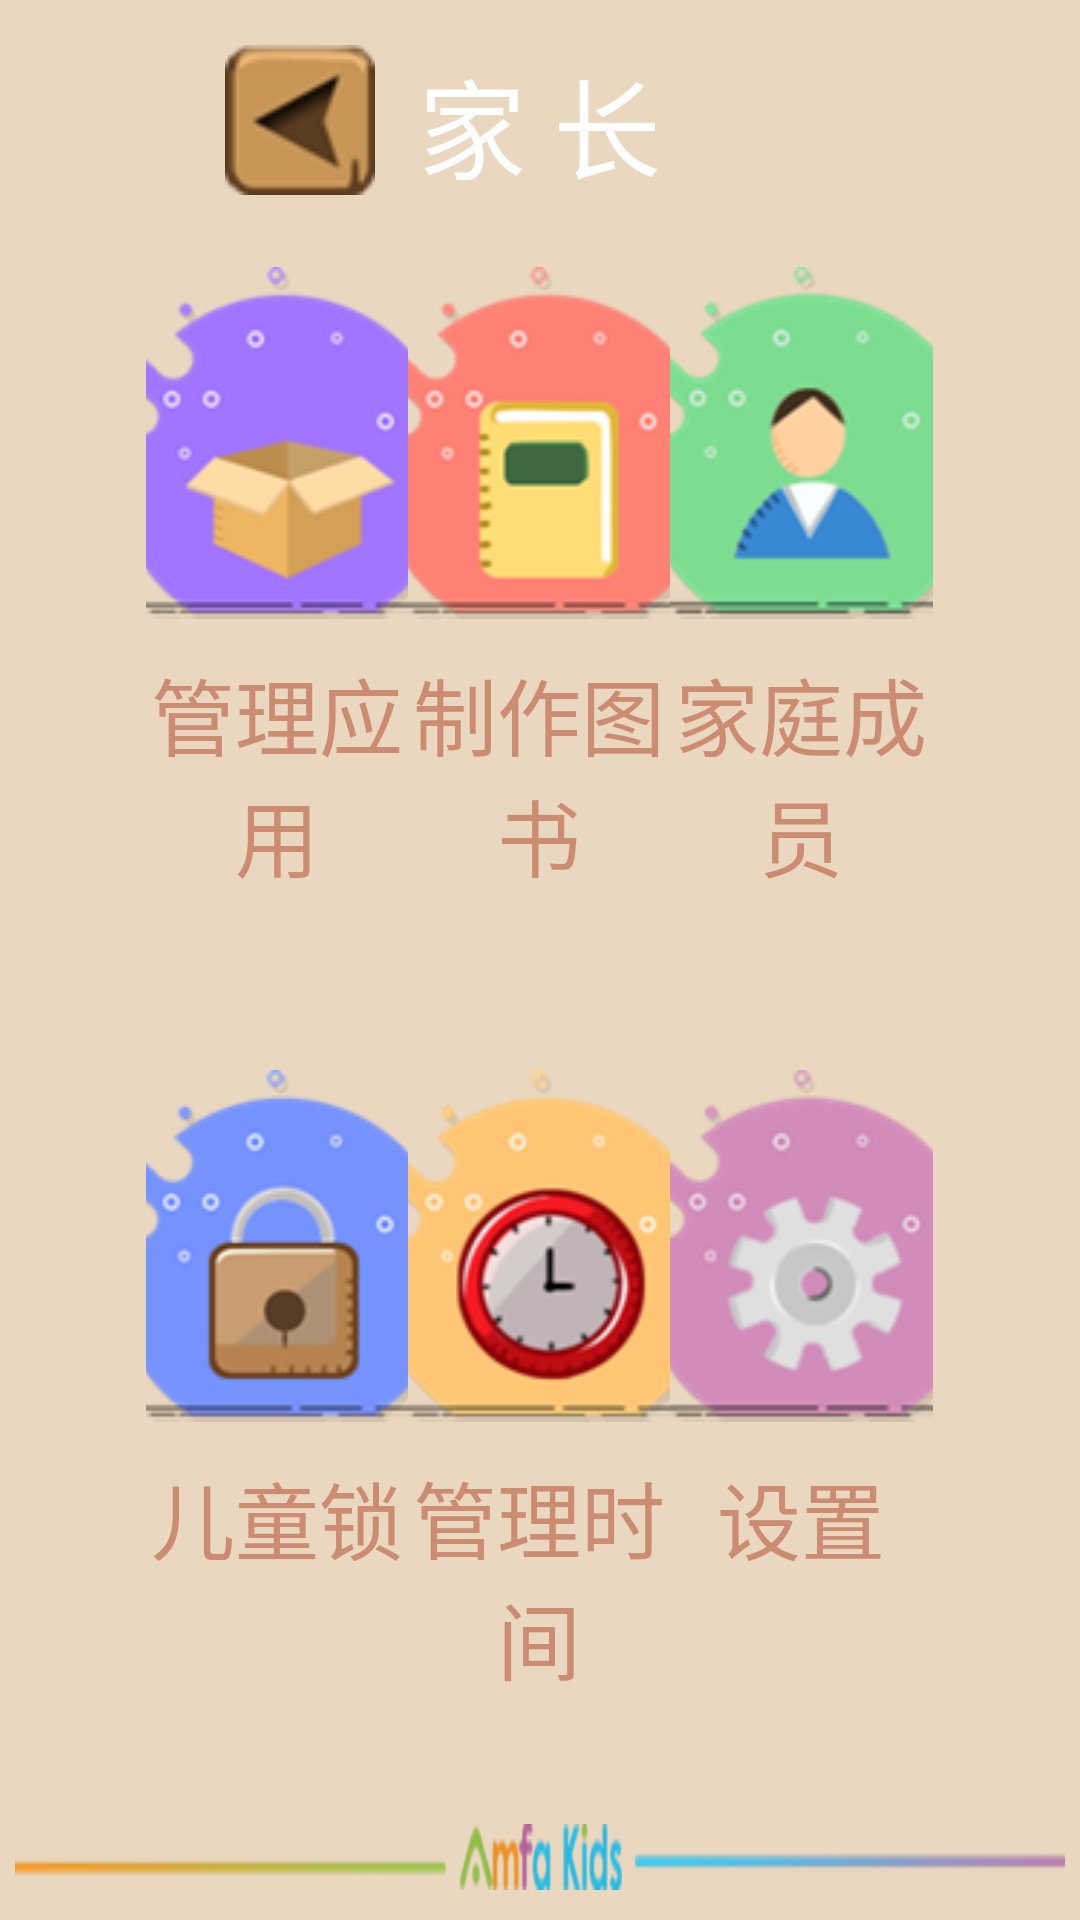

Icons on this 1080 x 1920 Android screen, each with the point to tap as [x,y]:
parent back: [300,120]
